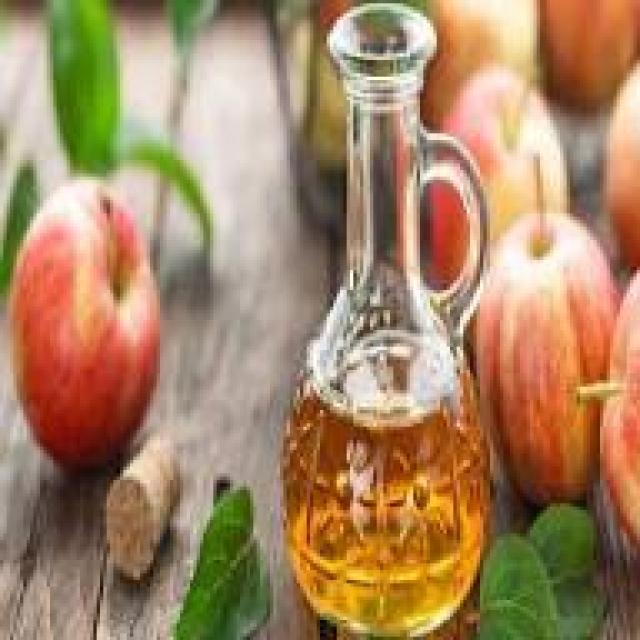apple: (7, 186, 163, 456), (473, 214, 617, 504), (437, 63, 590, 307)
